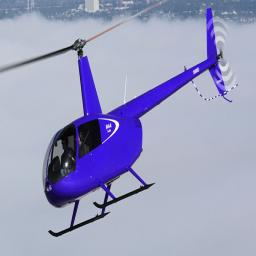helicopter: (40, 6, 241, 243)
